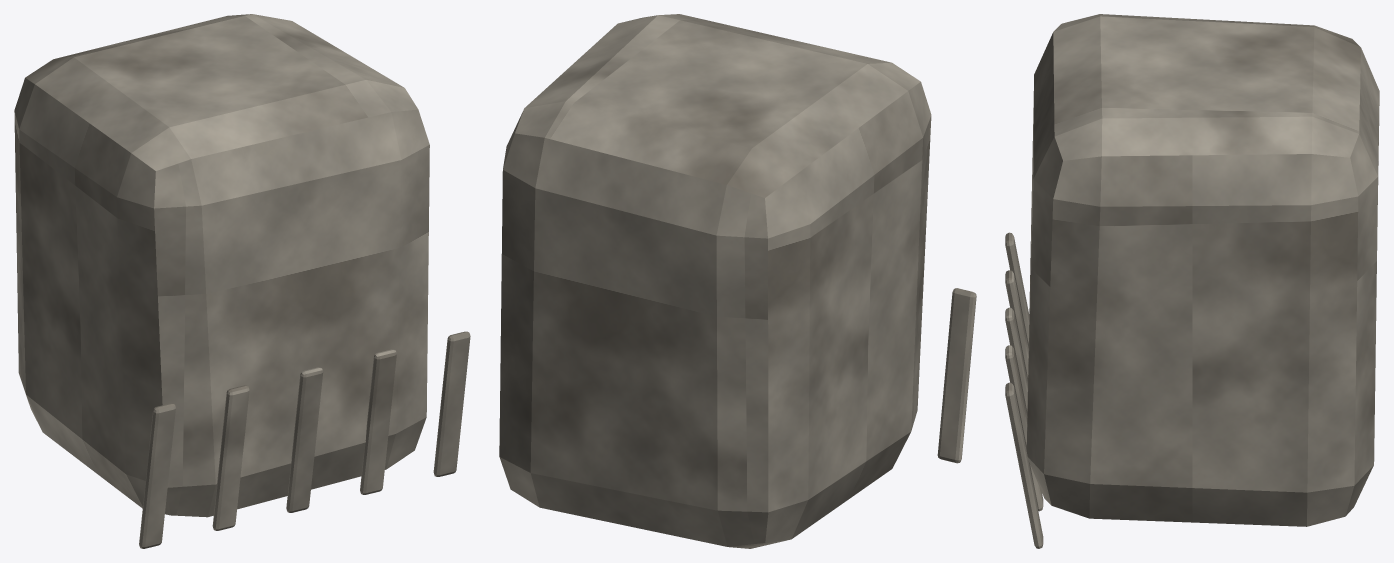
File: D05_dust_sheet_furniture_v2.glb
3 renders of one model, left to right at view 1: azimuth 30°, elevation 25°; view 2: azimuth 150°, elevation 25°; view 3: azimuth 270°, elevation 25°, orthographic. The views are drawn at different scales.
Parts seen in each view (by area): view 1: D05_dust_sheet_furniture_v2; view 2: D05_dust_sheet_furniture_v2; view 3: D05_dust_sheet_furniture_v2.
Part boxes in pixels (<box>): D05_dust_sheet_furniture_v2: <box>14,14,470,548</box>; D05_dust_sheet_furniture_v2: <box>499,14,976,548</box>; D05_dust_sheet_furniture_v2: <box>1005,14,1379,548</box>.
Bounding box in the file's own units: 1.27 × 1.5 × 1.24.
1 material, 1 textured.
